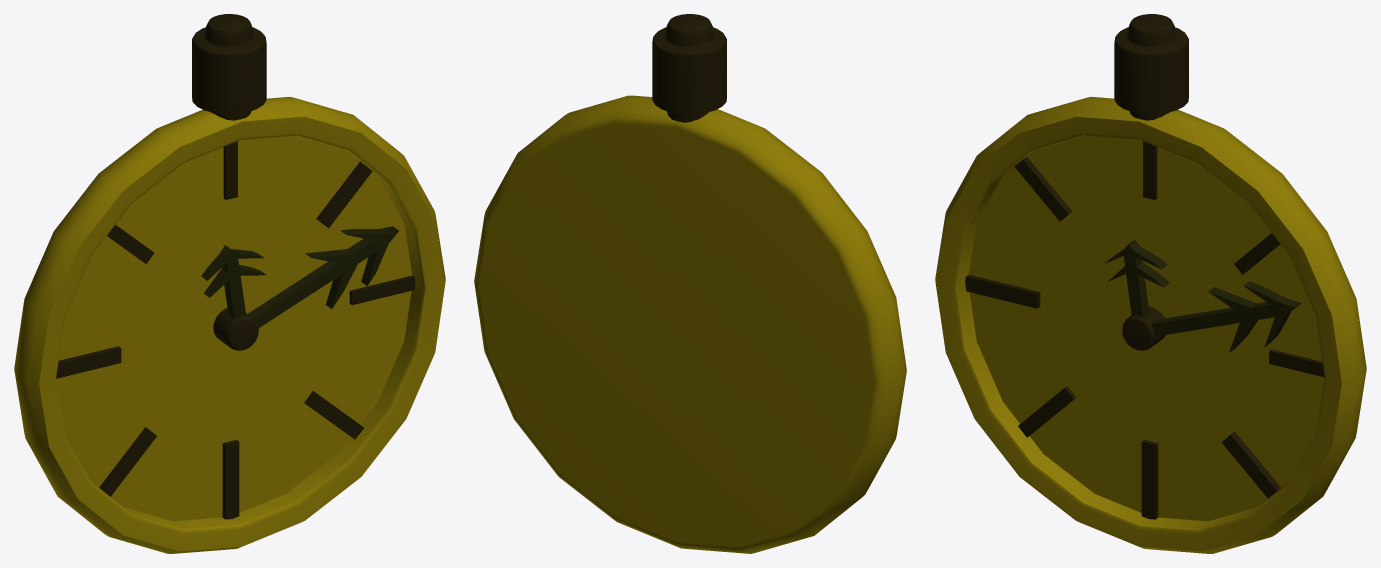
File: laMontre.fbx
The picture shows the model from 3 angles, left to right: view 1: azimuth 30°, elevation 25°; view 2: azimuth 150°, elevation 25°; view 3: azimuth 330°, elevation 25°; orthographic projection.
Visible parts, largest first — view 1: pCylinder1, pCylinder3, pCube9, pCube10, pCube2, pCylinder2, pCube6, pCube5, pCube4, pCube3, pCube7, pCube1 (+1 smaller); view 2: pCylinder1, pCylinder3; view 3: pCylinder1, pCylinder3, pCube9, pCube10, pCube2, pCube4, pCube7, pCube8, pCylinder2, pCube5, pCube3, pCube1 (+1 smaller).
Boxes of the visible parts, x1,y1,x2,y2 form: pCylinder1: (14,97,445,553); pCylinder3: (192,14,266,120); pCube9: (248,226,398,328); pCube10: (201,245,266,319); pCube2: (222,440,239,519); pCylinder2: (213,308,258,350); pCube6: (316,161,372,228); pCube5: (99,427,156,496); pCube4: (56,346,121,378); pCube3: (349,275,415,305); pCube7: (304,391,363,439); pCube1: (223,141,237,199); pCylinder1: (474,95,906,553); pCylinder3: (652,14,726,122); pCylinder1: (935,97,1366,553); pCylinder3: (1114,14,1188,120); pCube9: (1150,281,1301,352); pCube10: (1105,240,1169,317); pCube2: (1141,440,1158,519); pCube4: (965,274,1040,308); pCube7: (1222,431,1280,498); pCube8: (1014,157,1071,221); pCylinder2: (1122,306,1165,350); pCube5: (1018,386,1076,437); pCube3: (1269,349,1324,377); pCube1: (1143,141,1157,199).
Bounding box in the file's own units: 6.06 × 7.18 × 0.9287.
